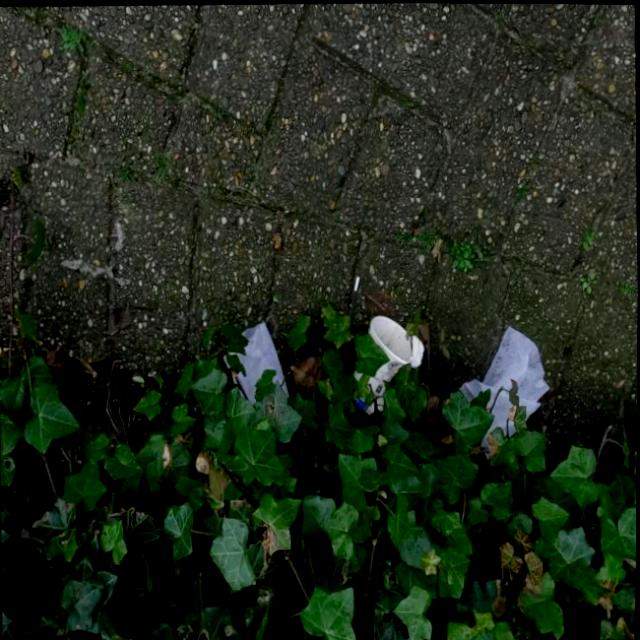Cup: (338, 311, 421, 420)
